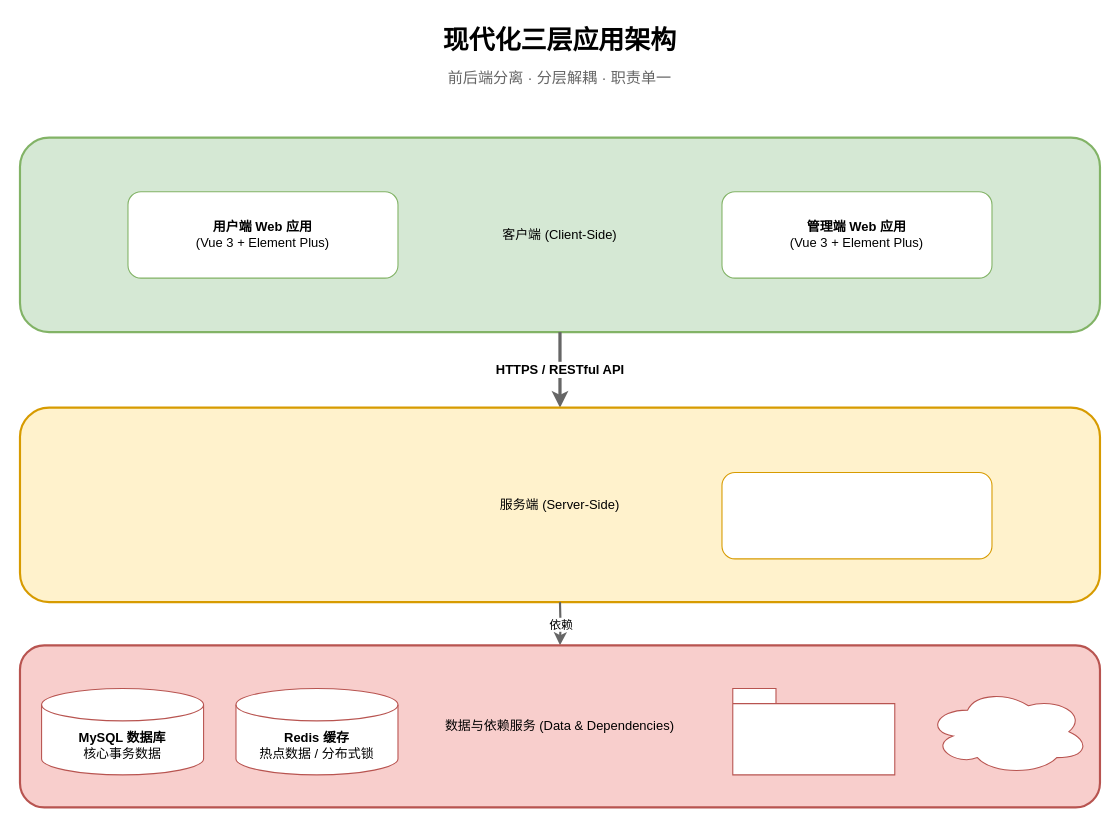
This 1119x826 diagram has some shape labels left out. The shapes that lost their labels are listed below. From the top down, each one's centre as x and y in pixels, then its label:
At [856,515]: "核心业务服务 (Spring Boot 3 单体应用)".
At [813,731]: "文件存储 图片 / 静态资源".
At [1007,731]: "第三方服务 地图".
